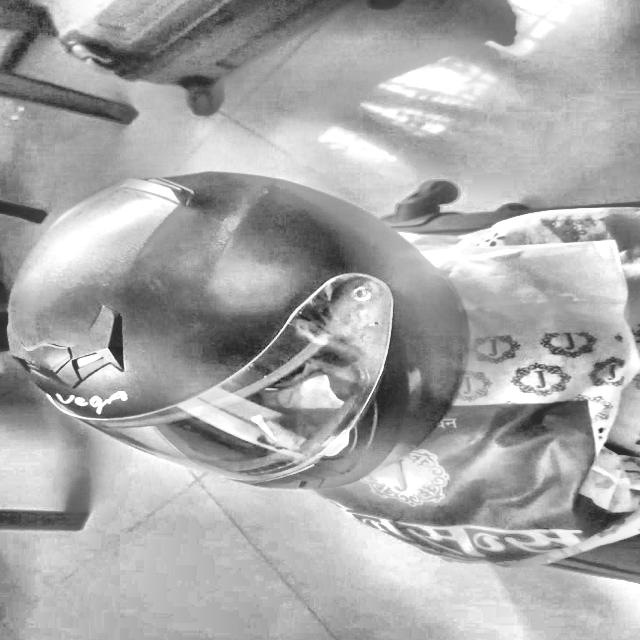Helmet: (0, 172, 481, 500)
